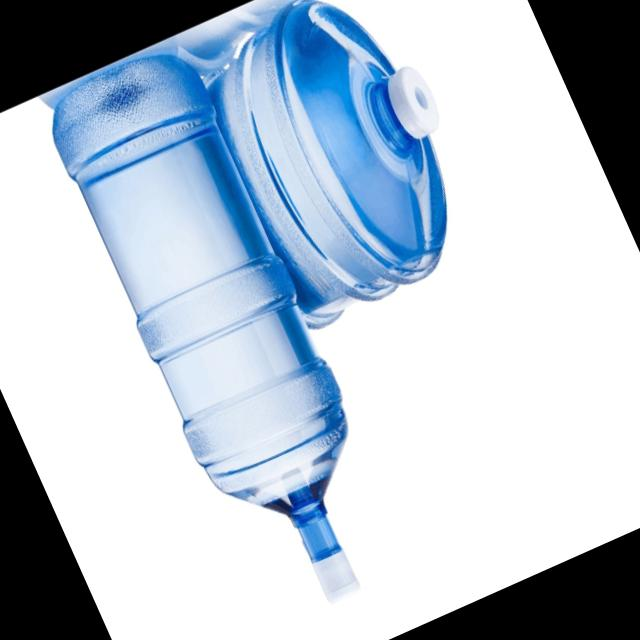Galon: (34, 0, 606, 633)
